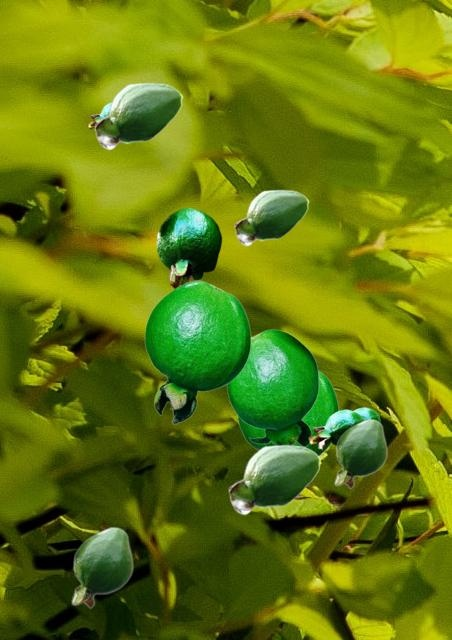guava: (144, 280, 250, 423), (226, 329, 318, 446), (237, 370, 338, 455), (228, 444, 320, 514), (94, 82, 182, 149), (156, 207, 221, 288), (71, 526, 132, 608), (234, 189, 308, 245), (334, 418, 386, 488), (308, 409, 364, 449), (87, 102, 110, 129), (353, 407, 379, 419)
